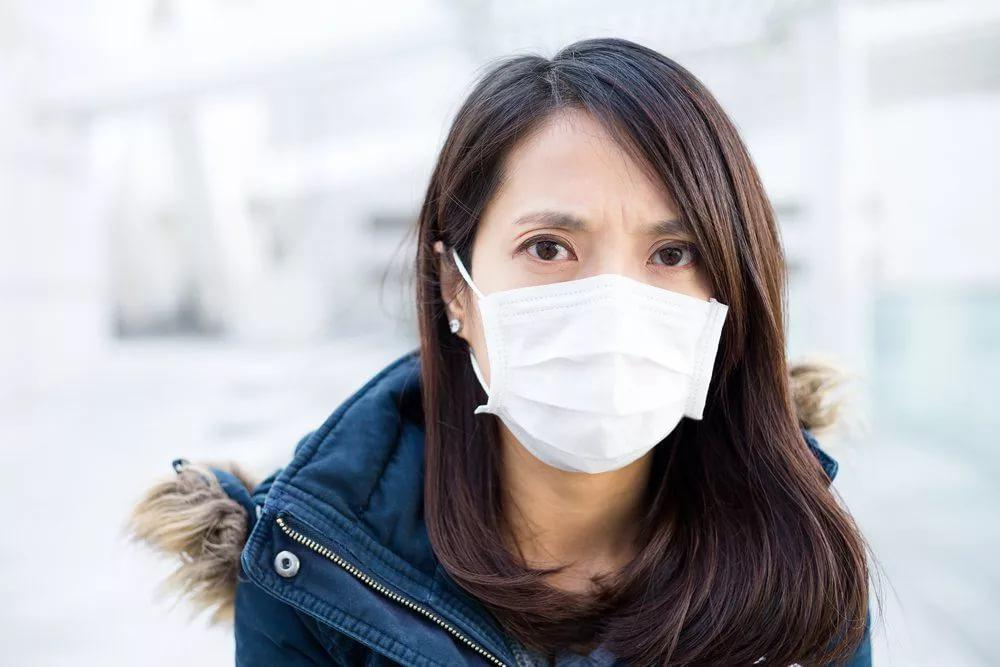mask: (475, 126, 731, 472)
